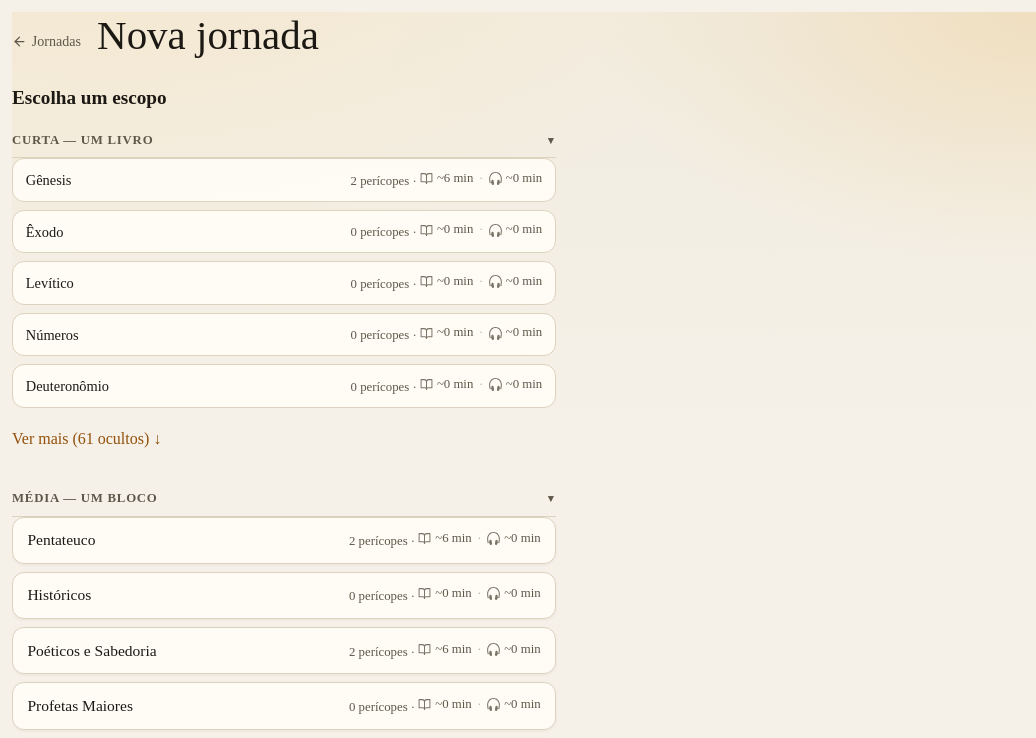
Test: NovaJornada — passo 2: confirmação › Cancelar volta ao catálogo
Click the button with class "jornada-escopo" that starts with "Gênesis". click: (49, 180)
box: [12,158,556,202]
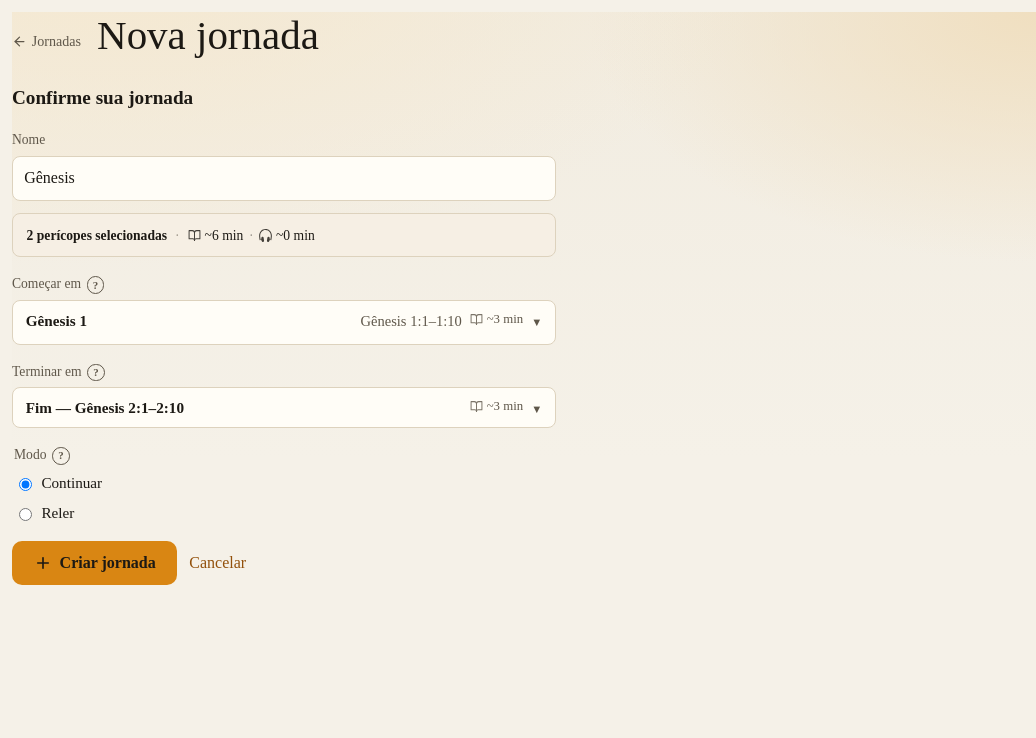
Click the button "Cancelar". click: (218, 563)
box: [189,541,246,585]
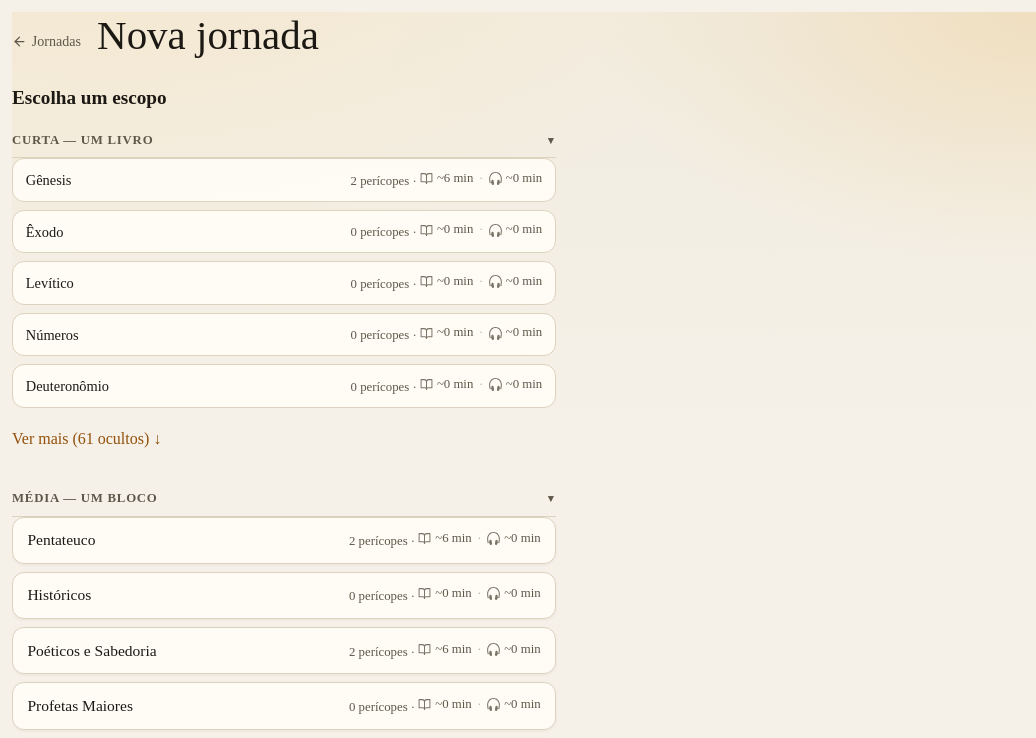
Expected: the text "Confirme sua jornada" is gone
Expected: the text "Escolha um escopo" is shown, [12,87,167,108]
